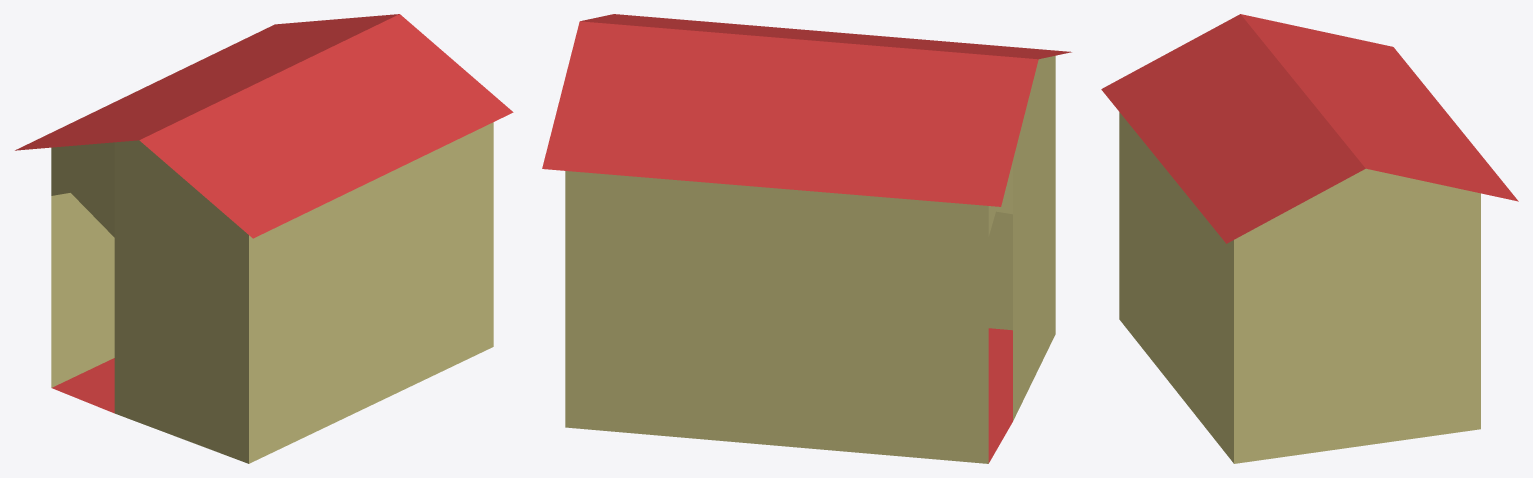
3 renders of one model, left to right at view 1: azimuth 30°, elevation 25°; view 2: azimuth 150°, elevation 25°; view 3: azimuth 270°, elevation 25°, orthographic. The views are drawn at different scales.
Size of the model in its own units: 15.76 by 14.12 by 10.55.
